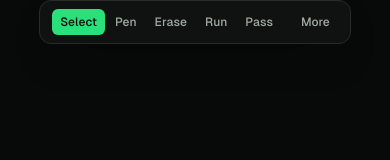
DrawingToolbar primary set › brings the whole kit back, ink and weight included
The width and height of the screenshot is (390, 160).
Click the button with aria-label "More drawing tools, ink and weight" at (315, 22), box [293, 9, 338, 35]
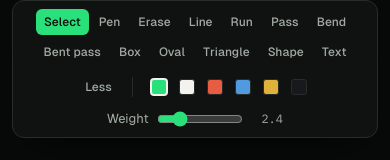
expect the button with aria-label "Fewer drawing tools" is expanded: met, box [77, 74, 120, 100]
